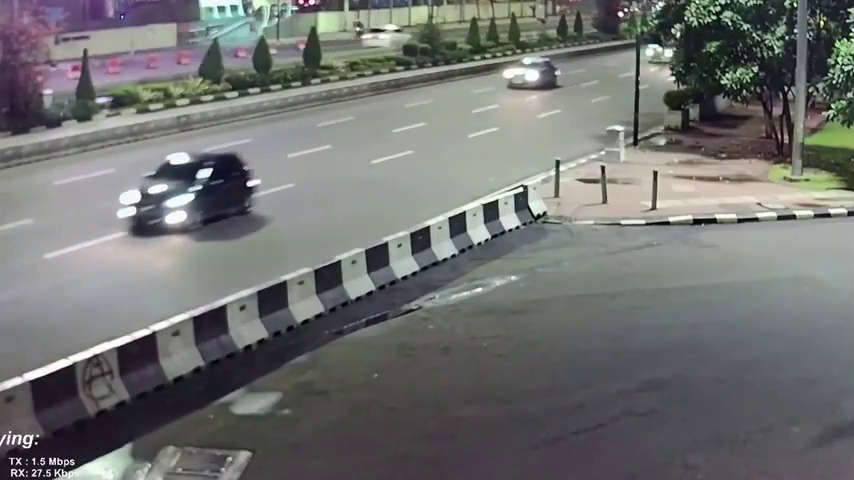car: (130, 145, 256, 235), (507, 55, 561, 92), (362, 26, 413, 54)
